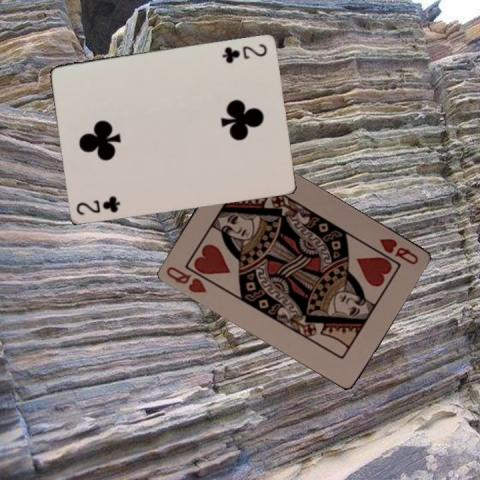2c: (219, 41, 269, 64), (73, 193, 122, 216)
Qh: (162, 263, 208, 295), (376, 235, 420, 267)
